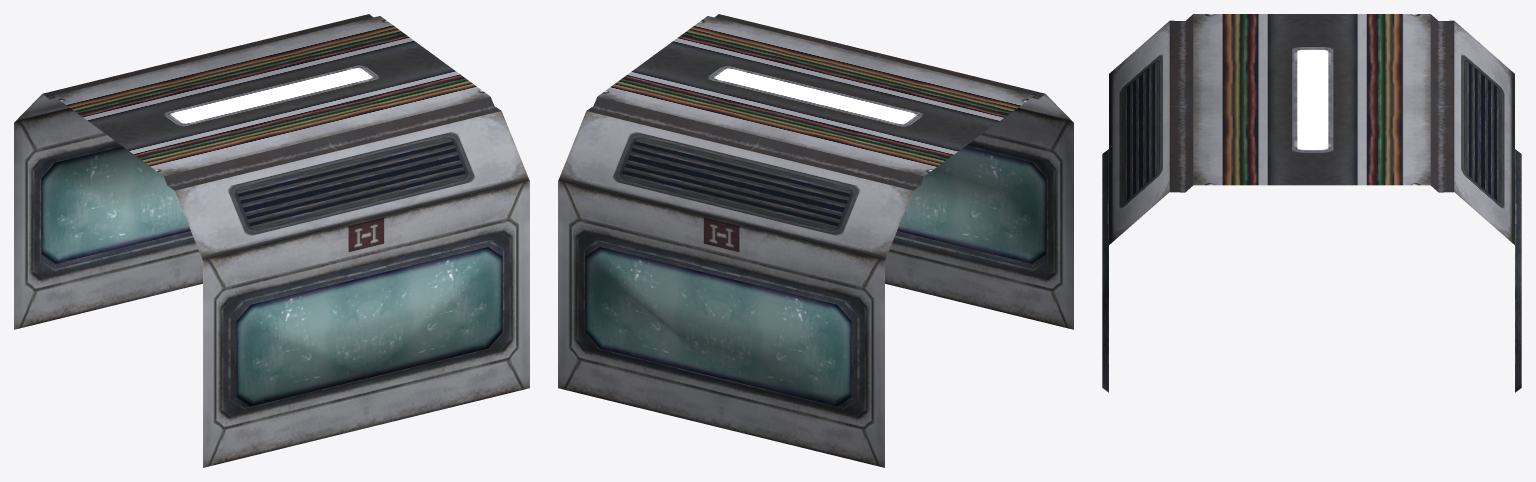
The model's file is MESH_CORREDOR_WINDOW.fbx.
3 renders of one model, left to right at view 1: azimuth 30°, elevation 25°; view 2: azimuth 150°, elevation 25°; view 3: azimuth 270°, elevation 25°, orthographic. The views are drawn at different scales.
Parts seen in each view (by area): view 1: MESH_CORREDOR_WINDOW; view 2: MESH_CORREDOR_WINDOW; view 3: MESH_CORREDOR_WINDOW.
Part boxes in pixels (x1,y1,x2,y2): MESH_CORREDOR_WINDOW: (14,14,529,467); MESH_CORREDOR_WINDOW: (558,14,1073,467); MESH_CORREDOR_WINDOW: (1102,14,1521,392).
Size of the model in its own units: 4 by 3.07 by 4.13.
